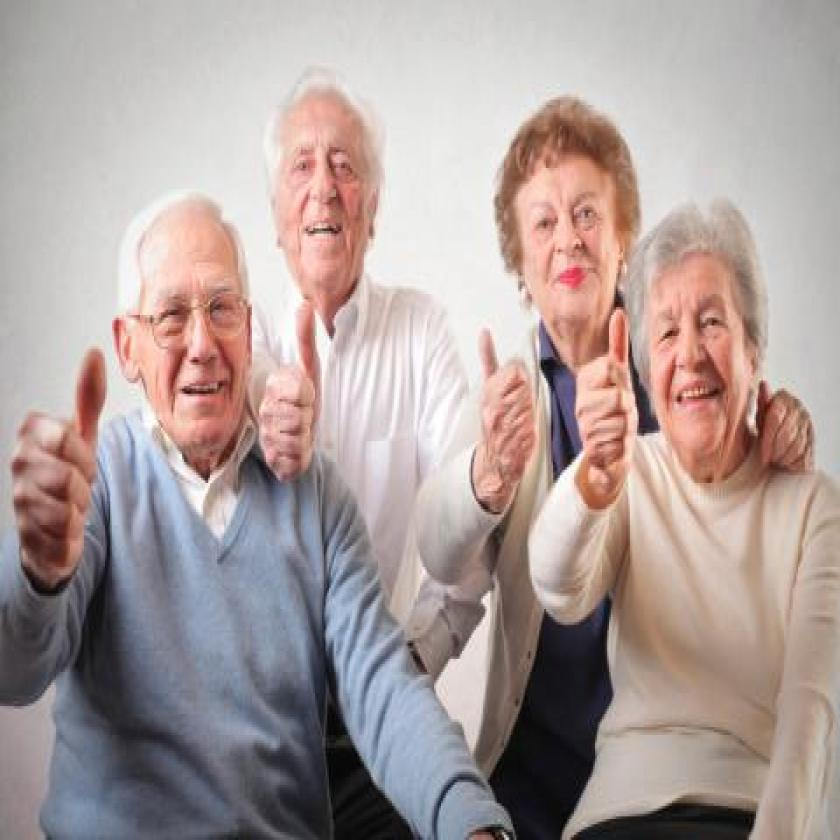Sin_casco: (630, 186, 780, 514), (113, 167, 258, 469), (500, 84, 641, 378), (266, 49, 393, 328)
